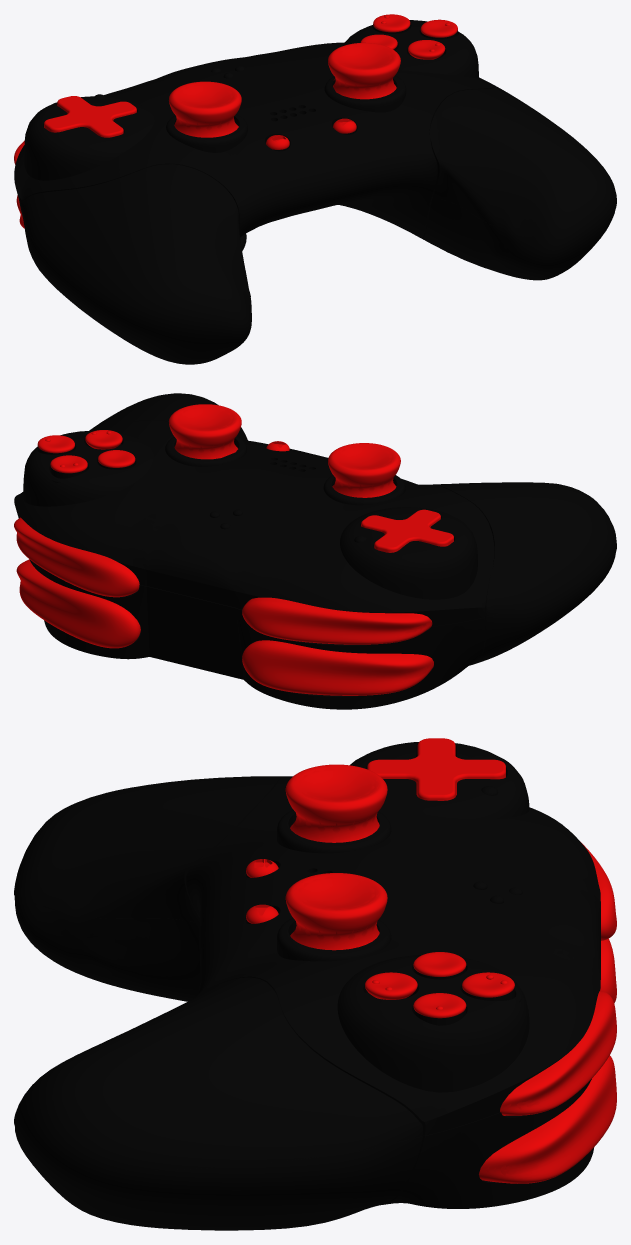
The model's file is controller.glb.
3 renders of one model, top to bottom at view 1: azimuth 30°, elevation 25°; view 2: azimuth 150°, elevation 25°; view 3: azimuth 270°, elevation 25°, orthographic. The views are drawn at different scales.
Size of the model in its own units: 14.53 by 5.39 by 10.58.
